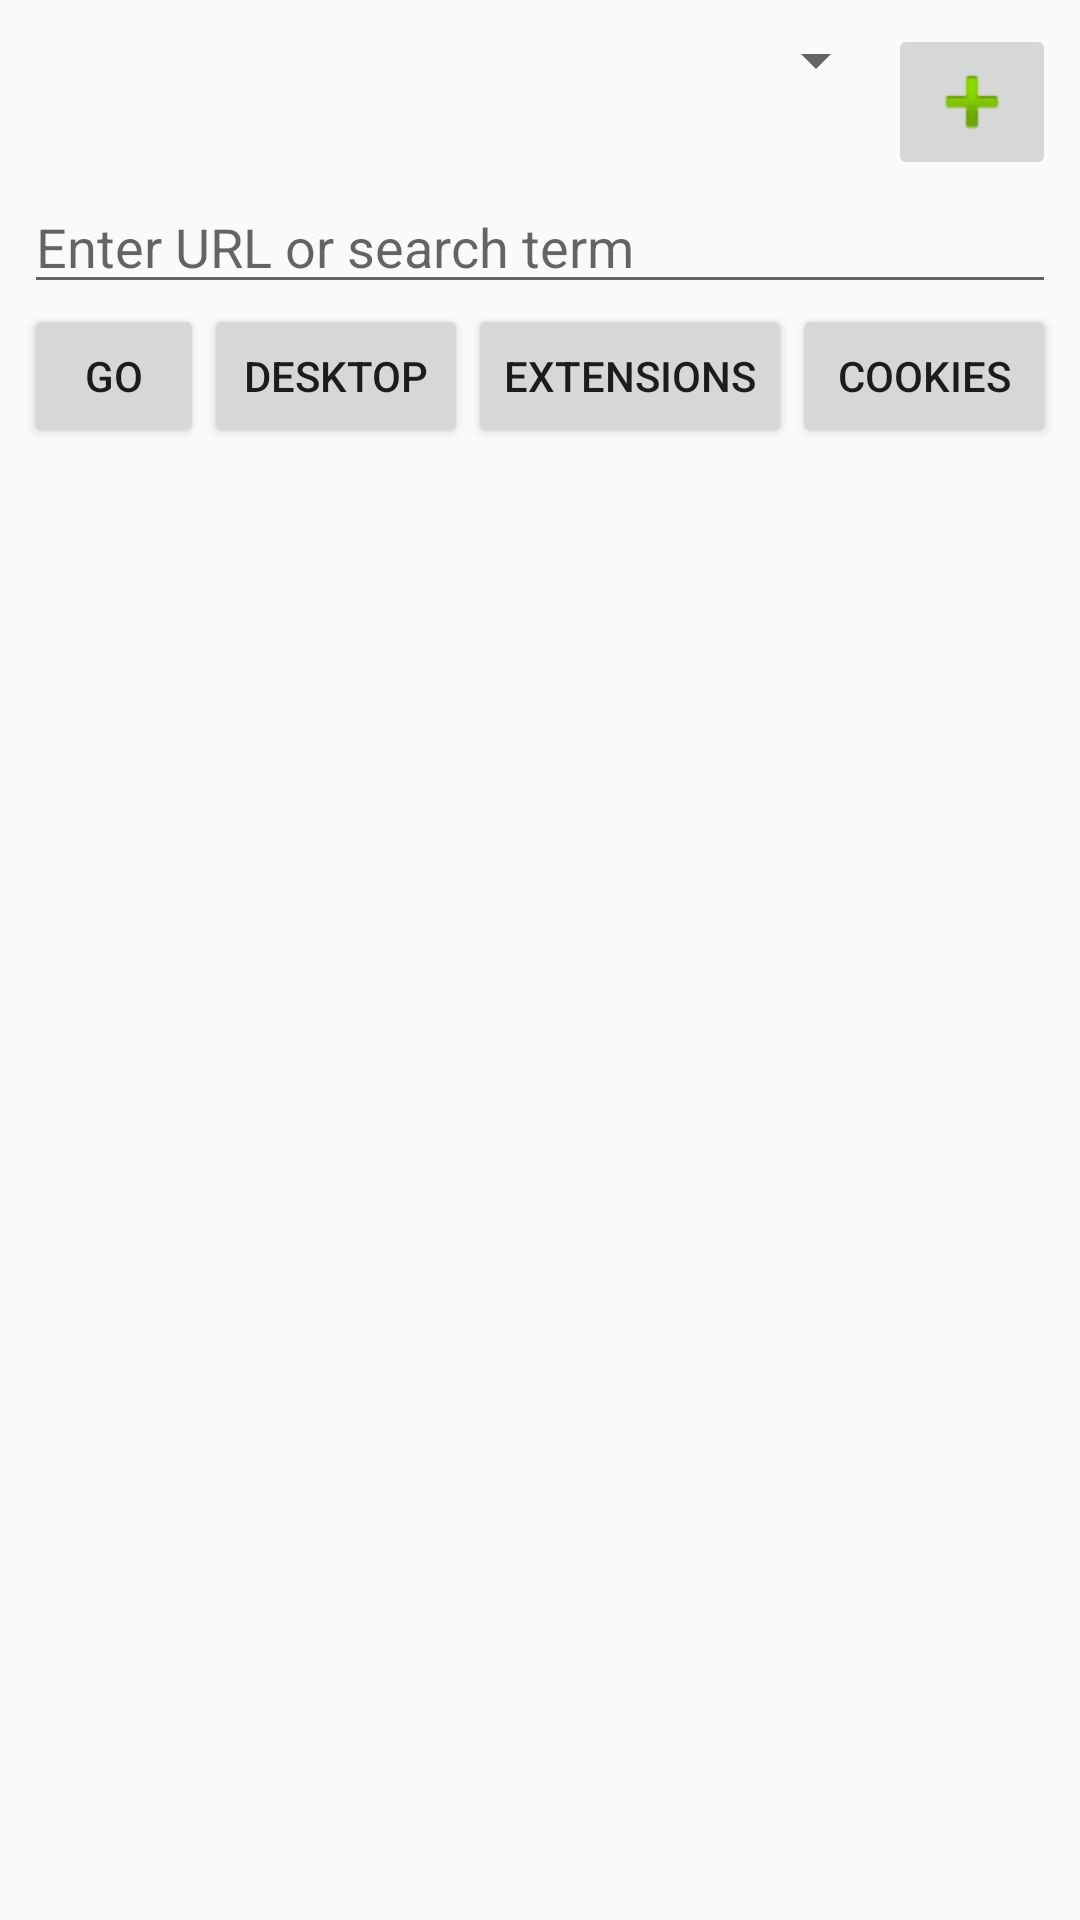

Named icons in this screenshot (1080*1920) and their centers, point (x, y):
New: point (972, 102)
